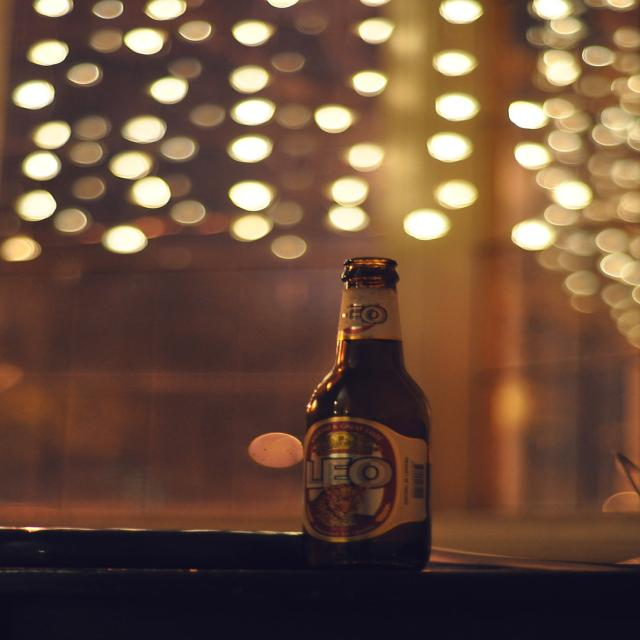Bottle: (293, 235, 452, 589)
